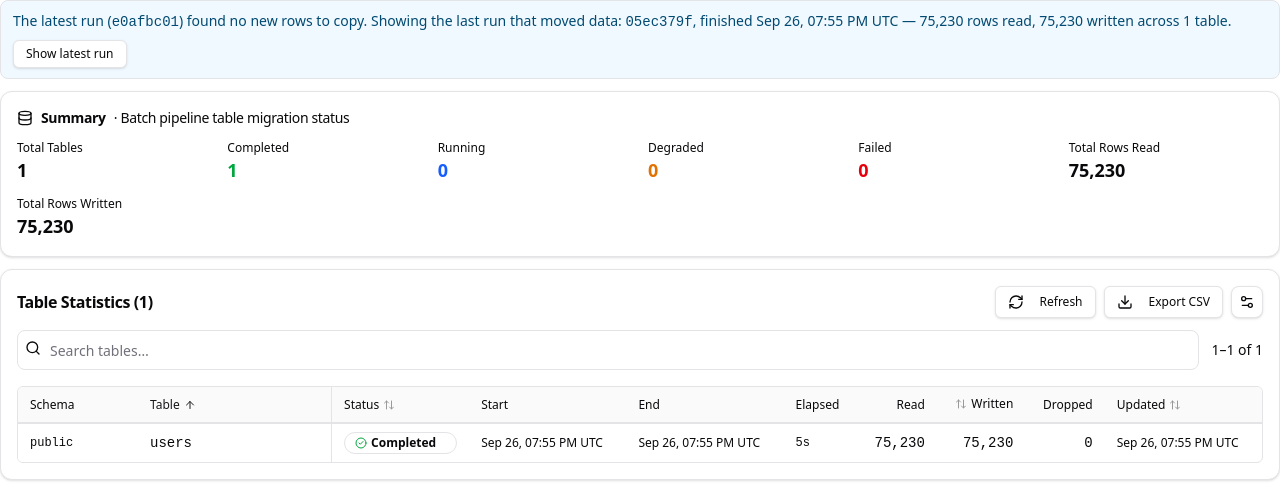
Table statistics — a run that moved nothing › switches back to the latest run on request, and forward again
Click the button "Show latest run" at (70, 54), box [13,40,126,68]
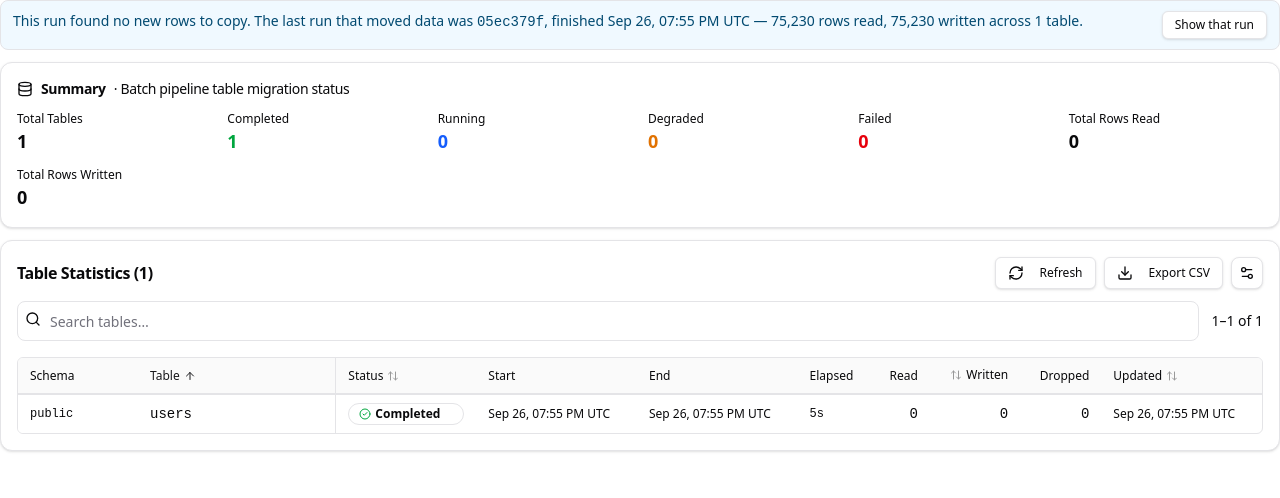
expect the text "This run found no new rows to copy" shows "05ec379f": met, box [477,14,544,30]
Click the button "Show that run" at (1214, 25), box [1162,11,1267,39]
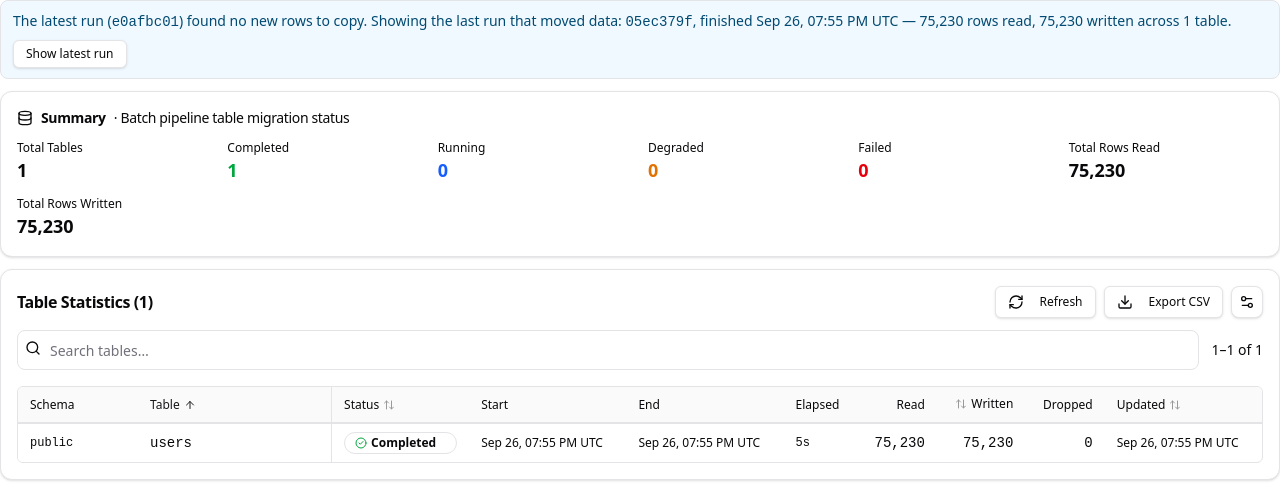
expect the text "Showing the last run that moved data" is shown: met, box [371,11,625,30]
